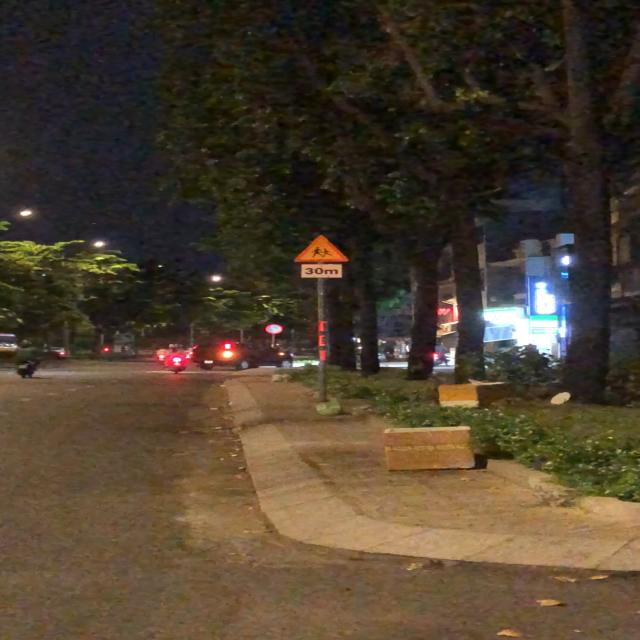Bien bao tre em: (291, 232, 352, 262)
